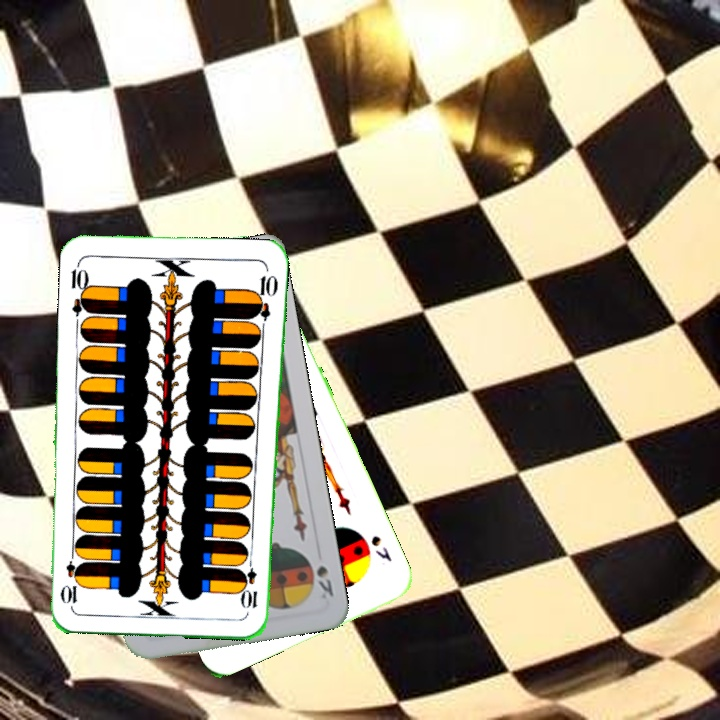E10: (67, 258, 93, 317), (240, 554, 260, 611)
SK: (312, 561, 336, 603), (367, 531, 394, 564)
